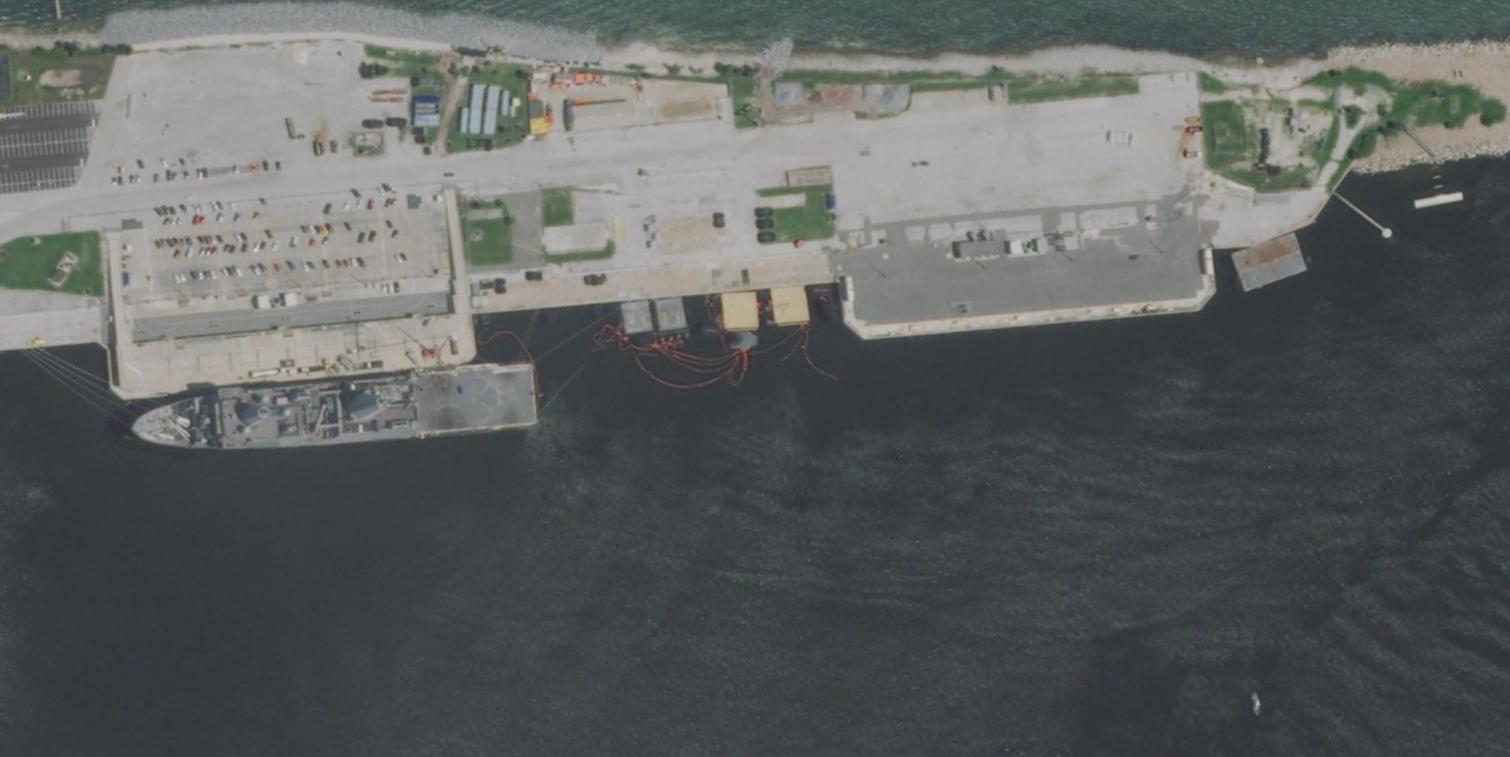amphiby: (114, 355, 566, 467)
